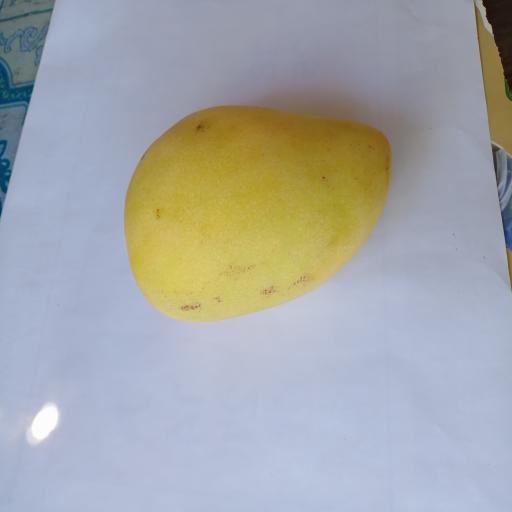mango-ripe: (97, 65, 410, 336)
